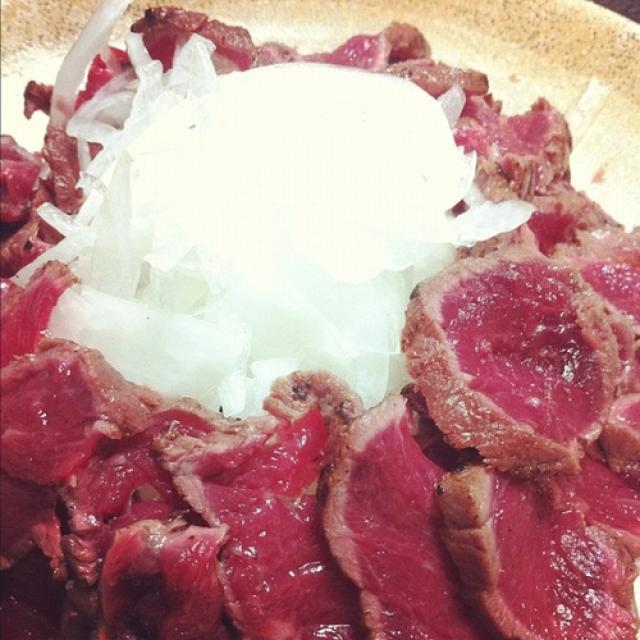刺身生食: (5, 11, 635, 624)
